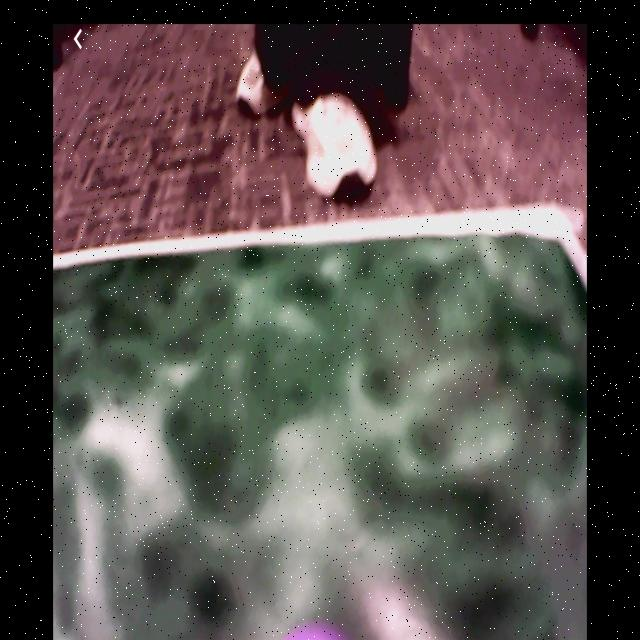ball: (282, 622, 350, 640)
